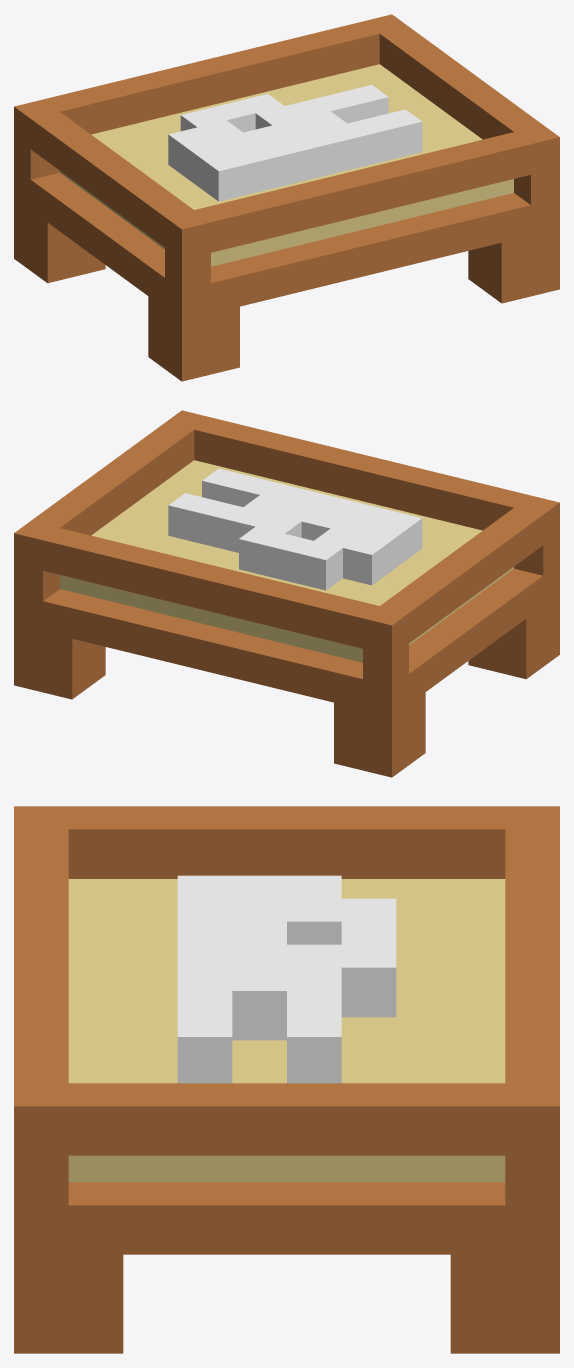
The model's file is fossil_table.gltf.
The picture shows the model from 3 angles, top to bottom: view 1: azimuth 30°, elevation 25°; view 2: azimuth 150°, elevation 25°; view 3: azimuth 270°, elevation 25°; orthographic projection. The views are drawn at different scales.
Visible parts, largest first — view 1: Layer.1; view 2: Layer.1; view 3: Layer.1.
Boxes of the visible parts, x1,y1,x2,y2 form: Layer.1: (14, 14, 559, 381); Layer.1: (14, 410, 559, 777); Layer.1: (14, 806, 559, 1353).
Size of the model in its own units: 13 by 5 by 10.
Materials: 1 (1 with a texture image).
